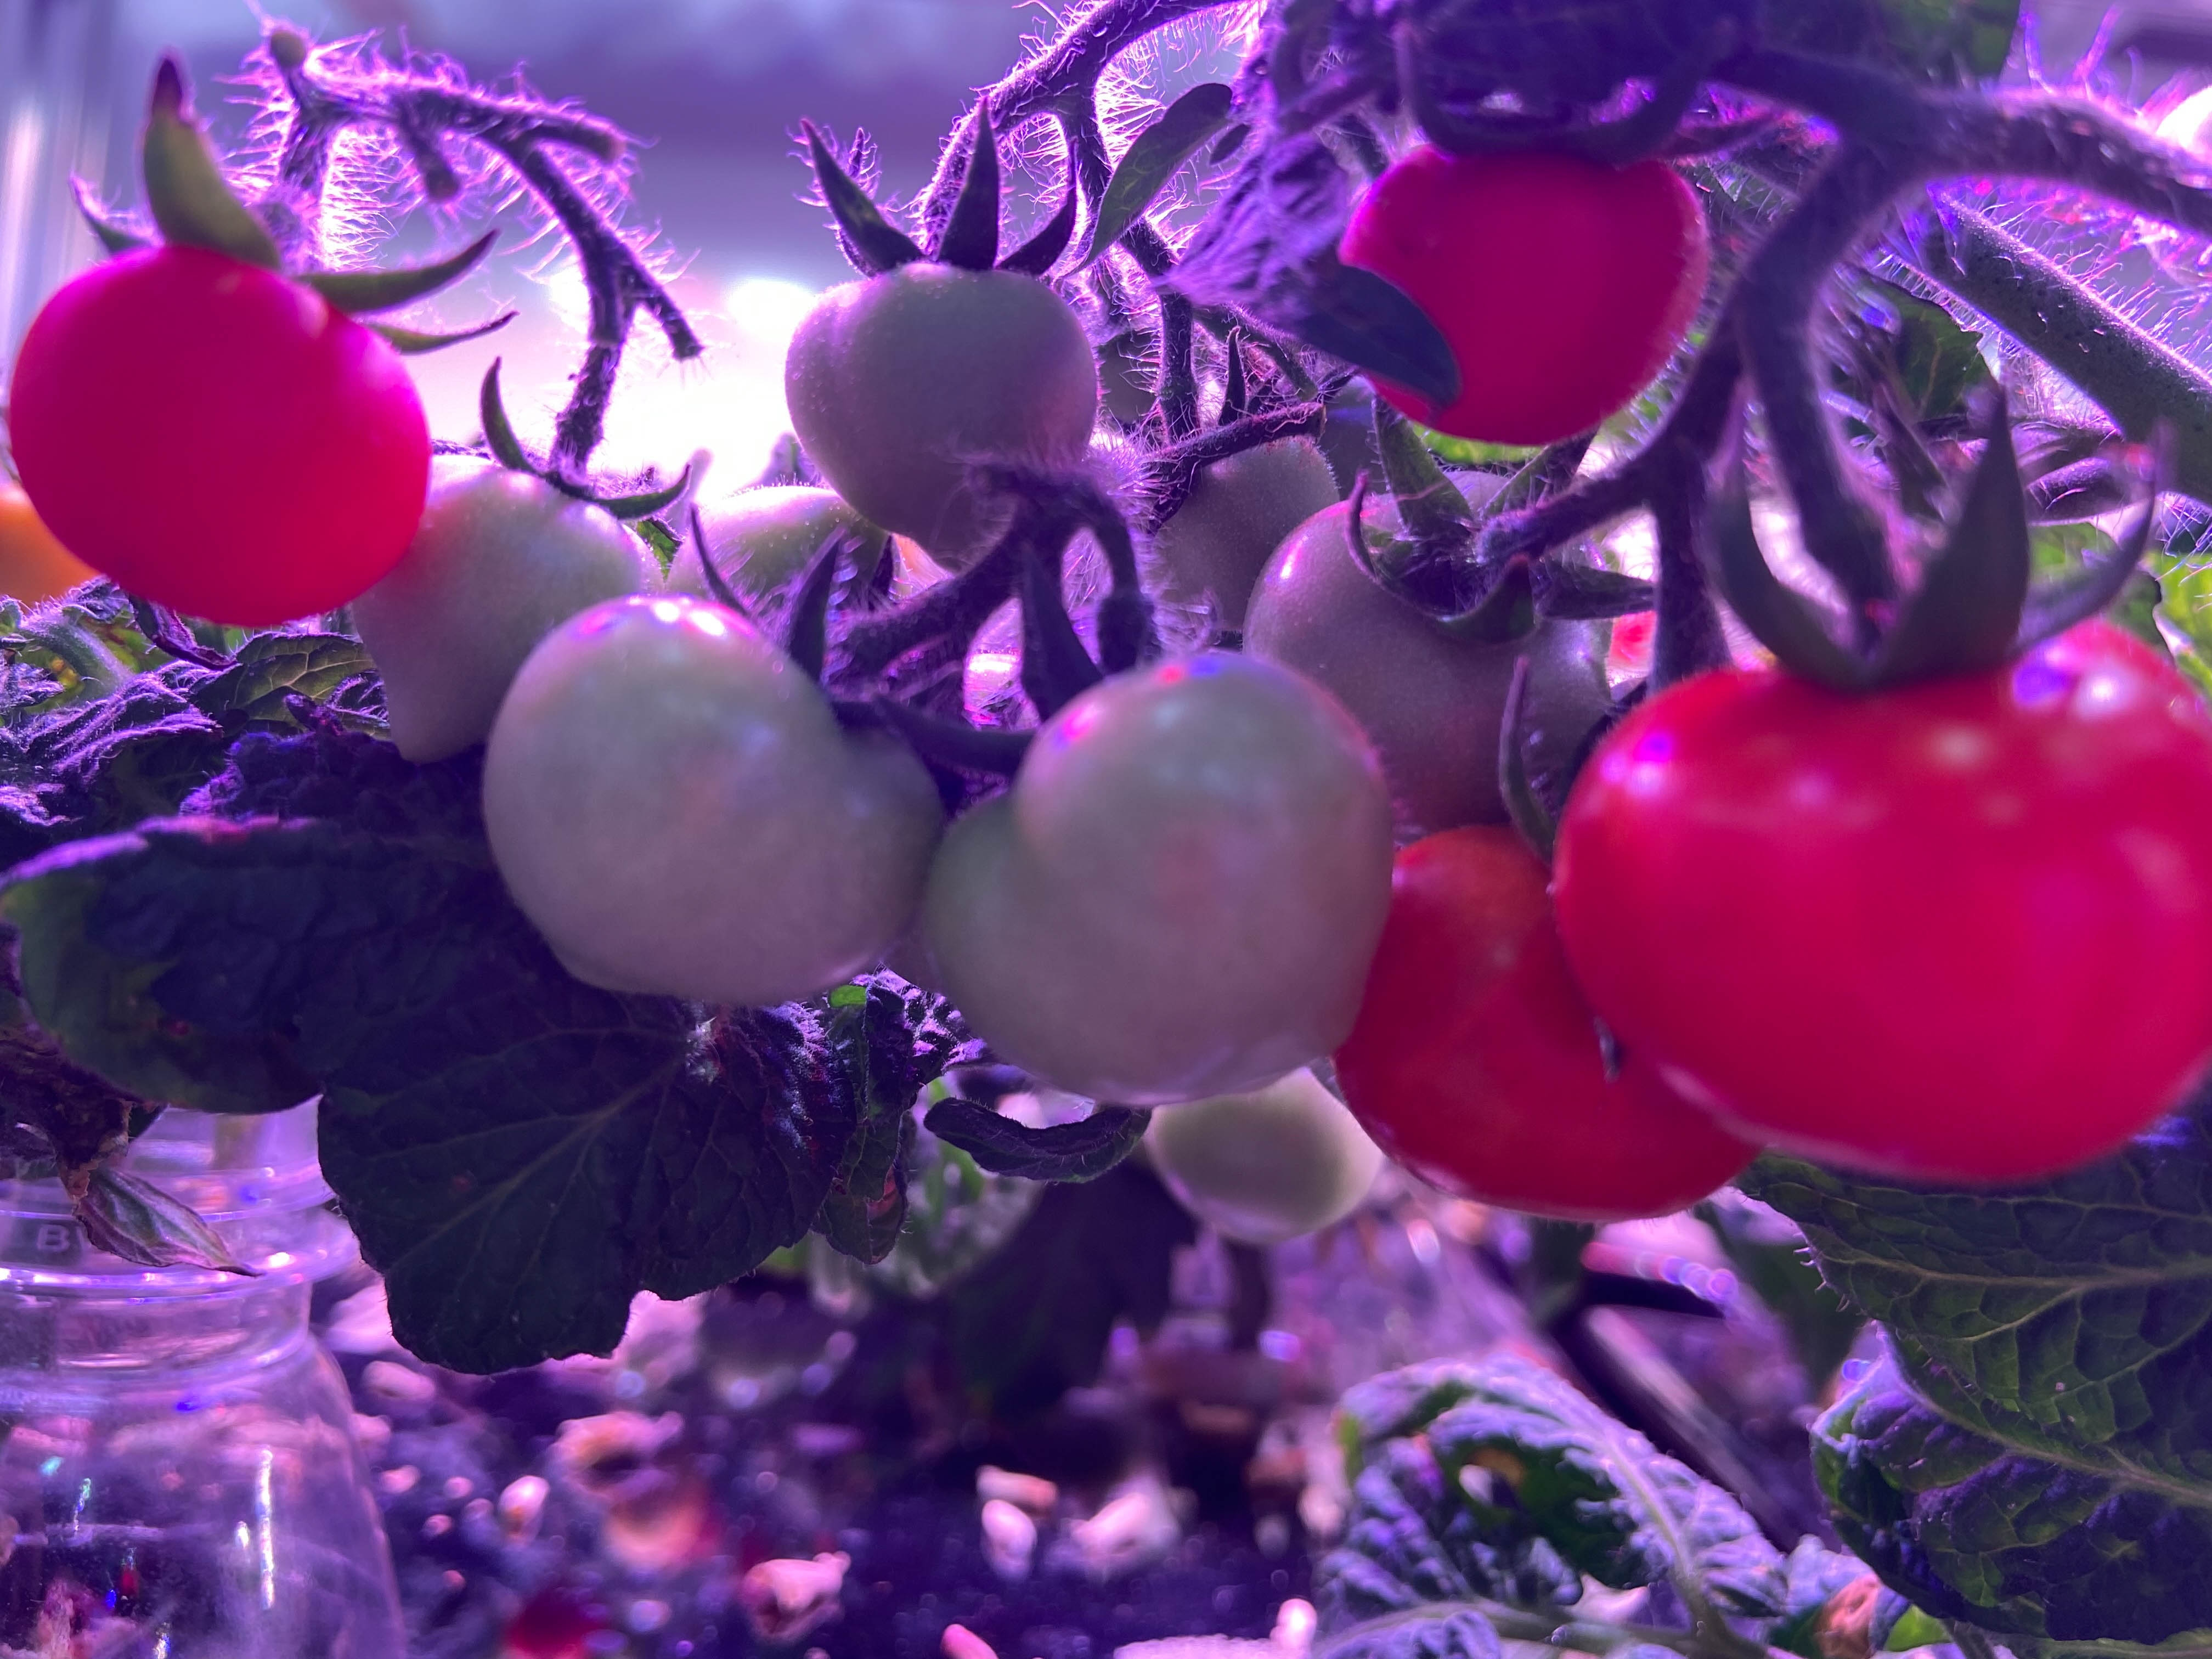green: (937, 652, 1399, 1110), (481, 596, 934, 1007), (1238, 486, 1580, 824), (775, 253, 1103, 568), (341, 471, 665, 765), (660, 453, 965, 690), (1127, 406, 1362, 645), (1139, 1051, 1386, 1249)
red: (1555, 615, 2212, 1183), (7, 227, 425, 633), (1327, 816, 1740, 1222), (1338, 115, 1712, 451)
